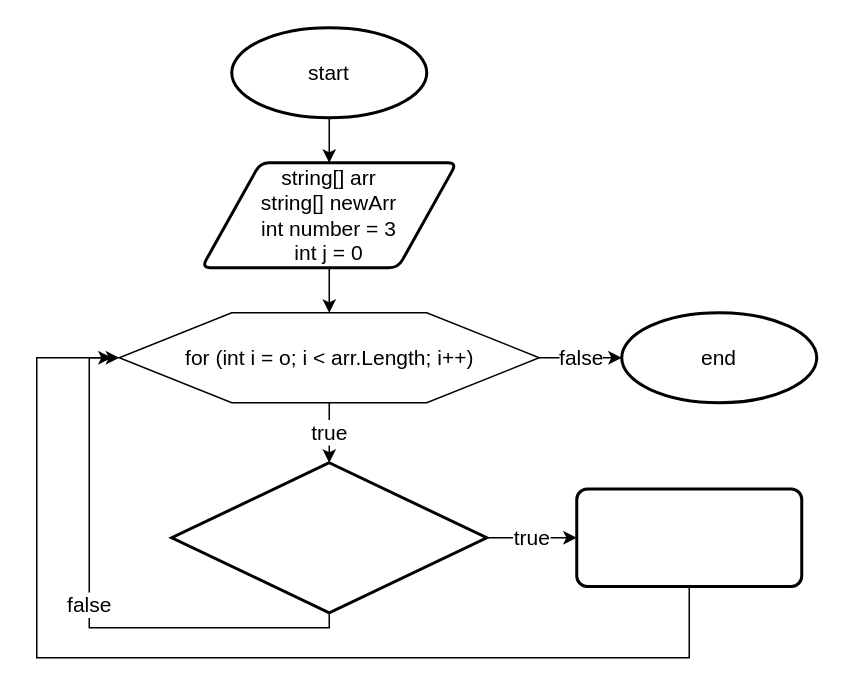
The diagram is 845 pixels wide and 696 high, and some of its shapes have lost their labels. The box of each missing label's shape, as (x1, y1, x2, y2) in pixels:
if (arr[i].Length <= number): (170, 460, 488, 614)
newArr[j] = arr[i] j++: (574, 487, 802, 587)
